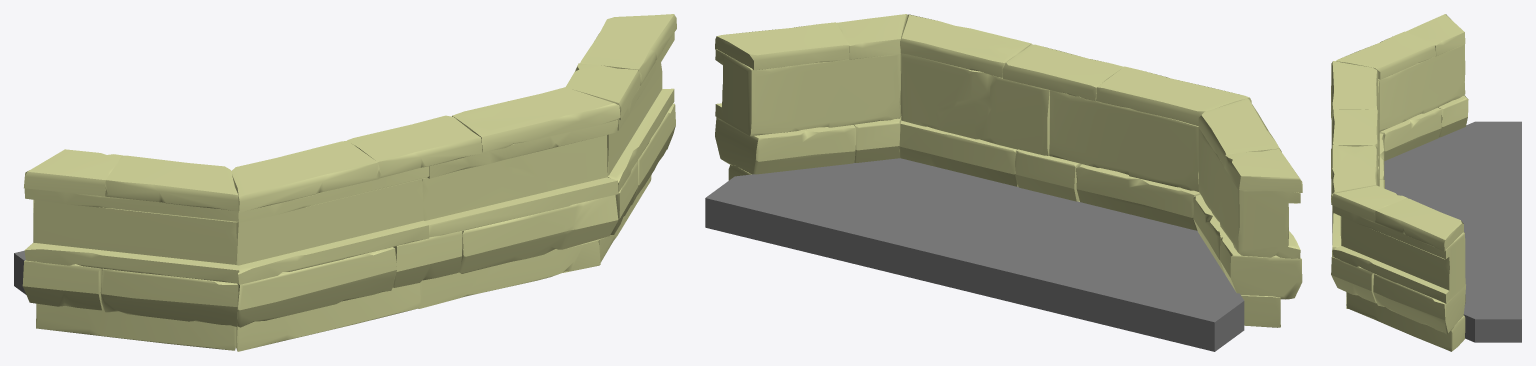
Rendered from Bariere_balcony_00.fbx.
3 renders of one model, left to right at view 1: azimuth 30°, elevation 25°; view 2: azimuth 150°, elevation 25°; view 3: azimuth 270°, elevation 25°, orthographic. The views are drawn at different scales.
Visible parts, largest first — view 1: Bariere_balcony_00_LOD0; view 2: Bariere_balcony_00_LOD0; view 3: Bariere_balcony_00_LOD0.
Part boxes in pixels (left/top/right/bottom): Bariere_balcony_00_LOD0: left=14, top=14, right=676, bottom=351; Bariere_balcony_00_LOD0: left=705, top=14, right=1302, bottom=351; Bariere_balcony_00_LOD0: left=1331, top=14, right=1521, bottom=351.
Size of what is drawn, in the model's own units: 606 by 148 by 215.
